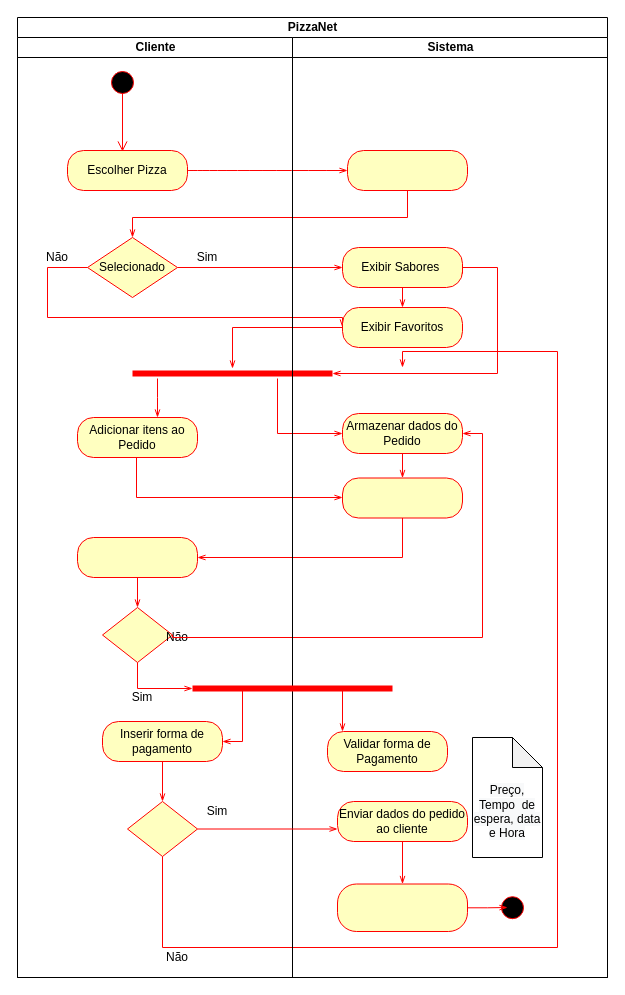
The diagram is 625 pixels wide and 995 high, and some of its shapes have lost their labels. Here are the shapes that lost their labels. From the top down, the box of each, then its label:
(346, 150, 468, 190): Selecione o Tamanho
(342, 477, 462, 518): Visualizar Pedido
(76, 536, 198, 578): Fechar Pedido
(102, 606, 172, 662): Logado
(126, 800, 198, 856): Pago
(336, 883, 468, 932): Encaminhar pedido para preparo
